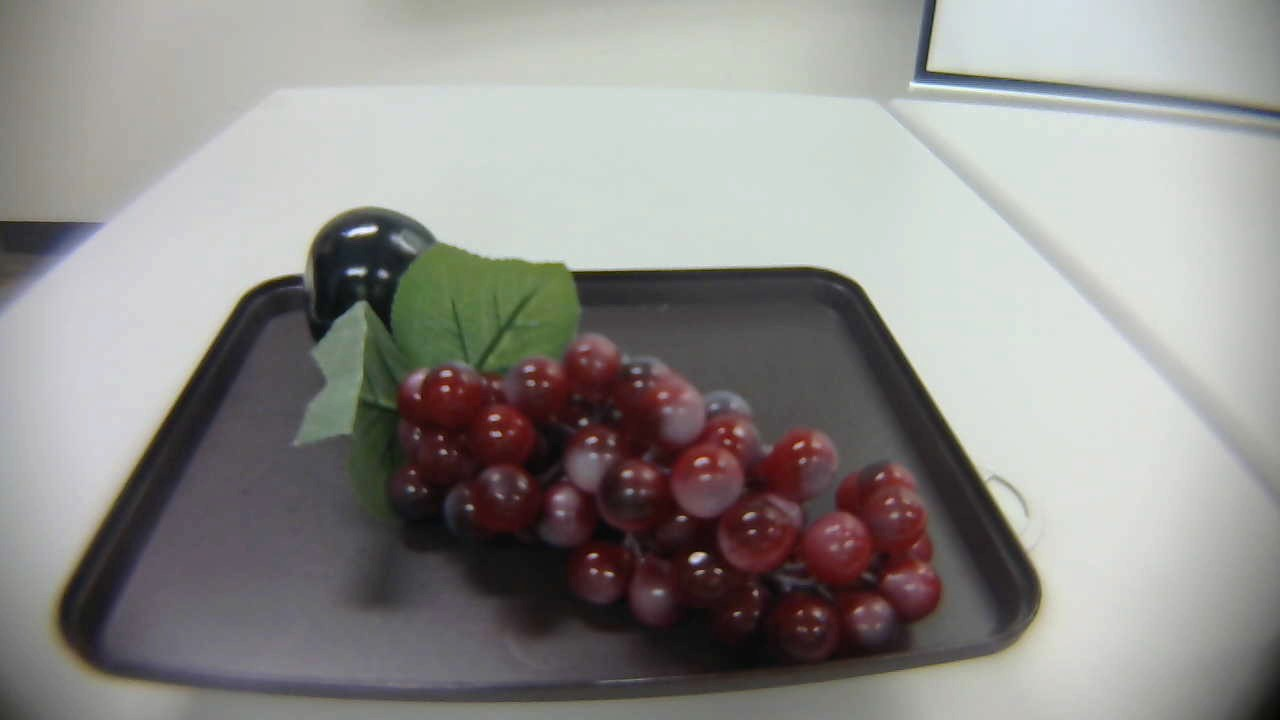grape: (297, 243, 945, 673)
mangosteen: (279, 209, 458, 352)
